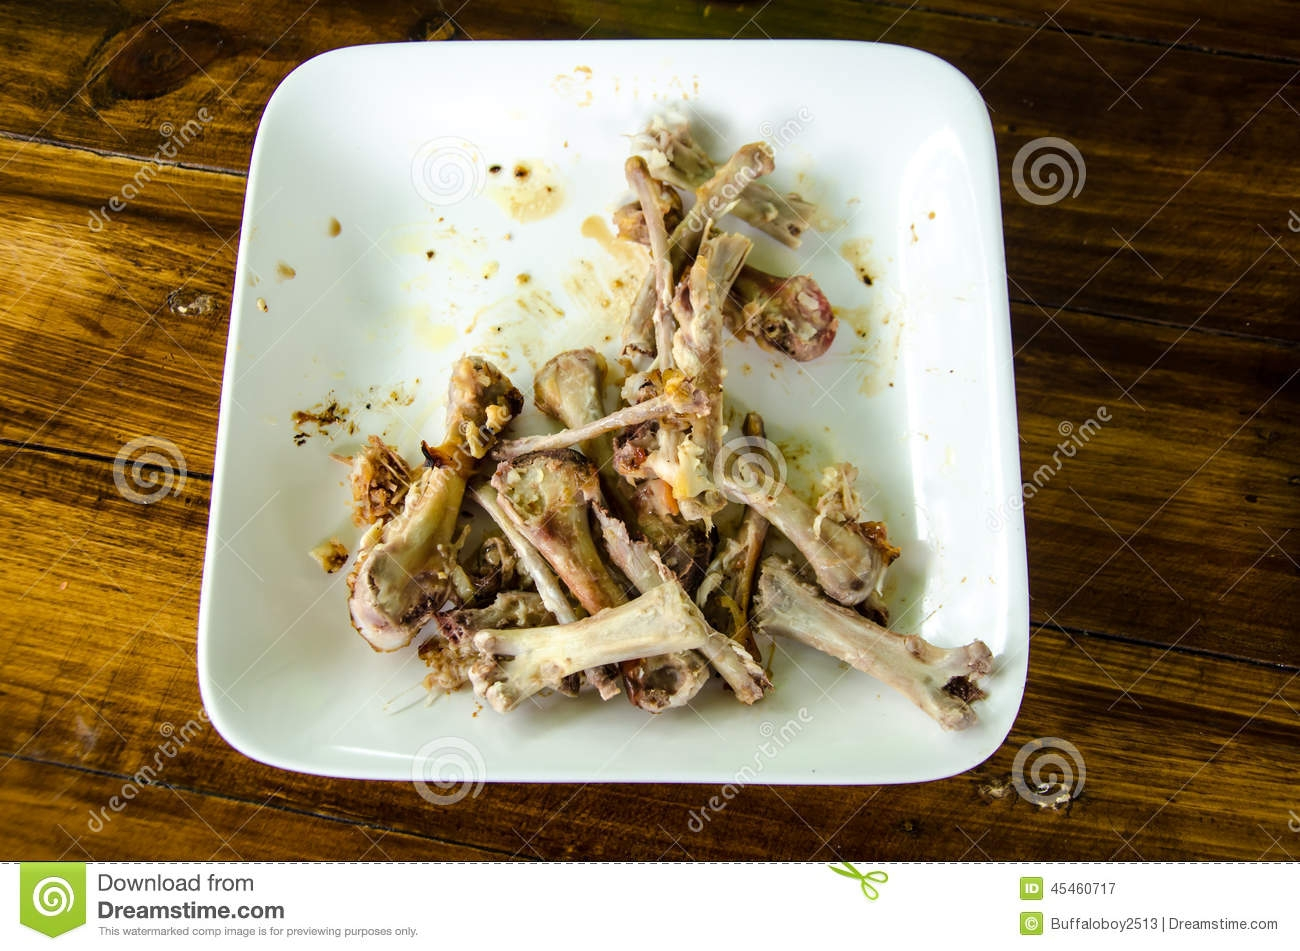kitchen_waste: (483, 441, 716, 727), (330, 342, 531, 661), (742, 541, 1001, 739), (595, 181, 852, 368), (623, 204, 761, 520), (449, 571, 718, 723), (681, 432, 898, 607), (618, 112, 844, 255)
